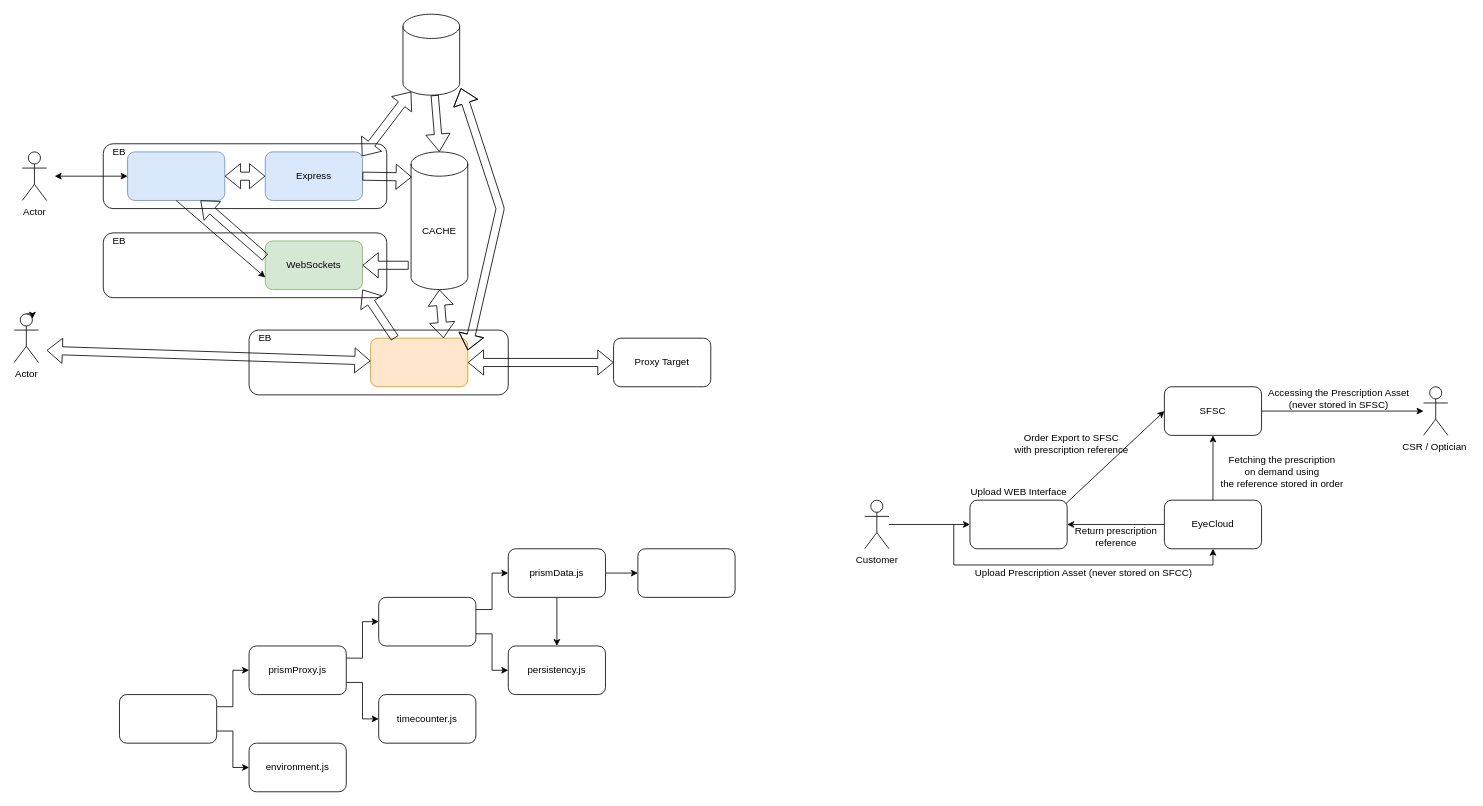
Image size: 1483x806. Some labels were removed from this diagram. Here are the shapes that lost their labels. From the top down, the centre of each, then its label:
At point (431, 54): "DB".
At point (176, 175): "React".
At point (419, 362): "Prism".
At point (1018, 524): "SFCC e-commerce".
At point (686, 572): "messaging.js".
At point (427, 621): "prismConfig.js".
At point (168, 718): "server.js".
